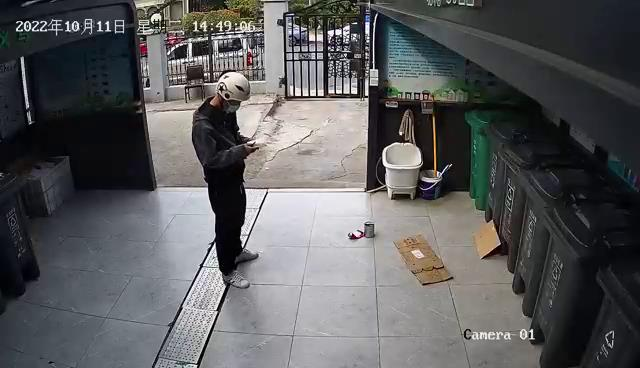lvzhipin: (362, 216, 377, 240), (346, 225, 364, 240)
person: (187, 70, 269, 293)
zhizhipin: (390, 230, 457, 289), (471, 218, 503, 263)
